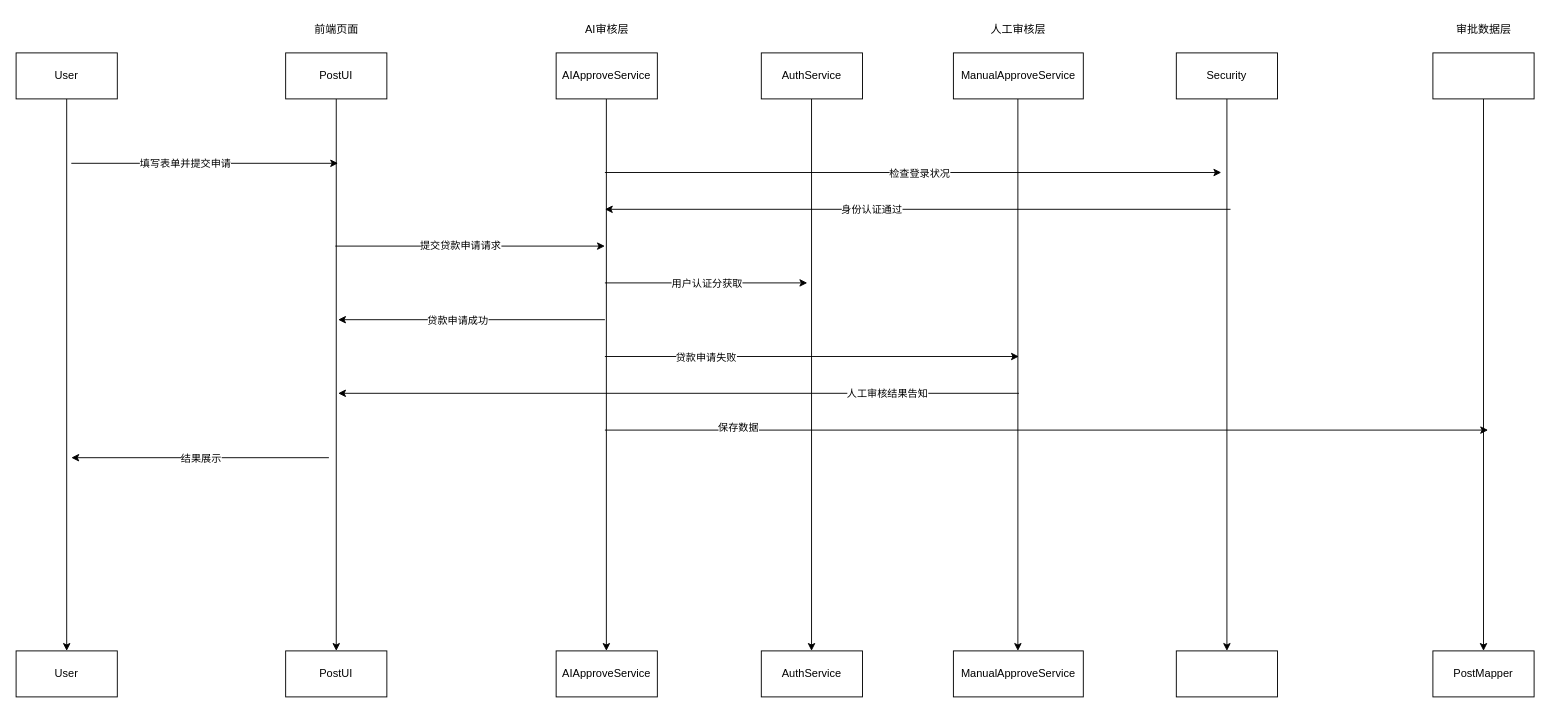
The diagram is 1550 pixels wide and 713 high, and some of its shapes have lost their labels. The centre of each missing label's shape, as x and y in pixels:
"ApproveMapper" goes at [1483,75].
"PostService" goes at [1226,673].
